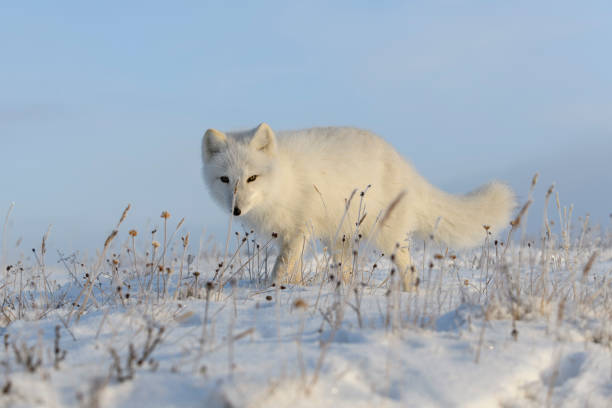arcticfox: (210, 145, 272, 228)
